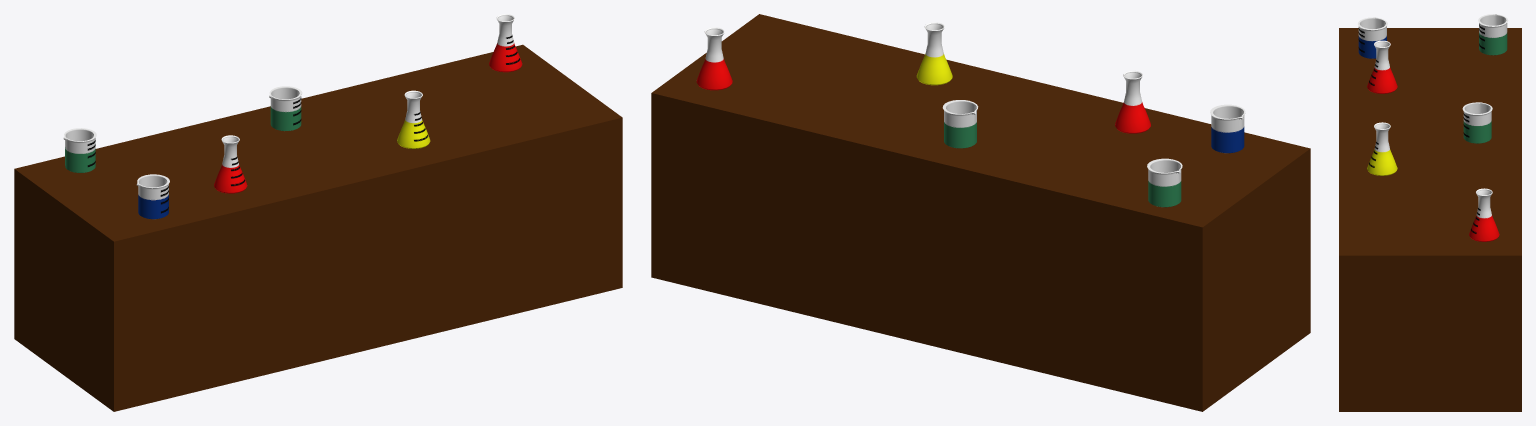
Rendered from table1.fbx.
3 renders of one model, left to right at view 1: azimuth 30°, elevation 25°; view 2: azimuth 150°, elevation 25°; view 3: azimuth 270°, elevation 25°, orthographic. The views are drawn at different scales.
Parts seen in each view (by area): view 1: pCube2; view 2: pCube2; view 3: pCube2.
Boxes of the visible parts, box(x1,y1,x2,y2) form: pCube2: box(14, 14, 622, 411); pCube2: box(651, 14, 1310, 411); pCube2: box(1339, 14, 1521, 411).
Bounding box in the file's own units: 10.56 × 4.39 × 3.58.
